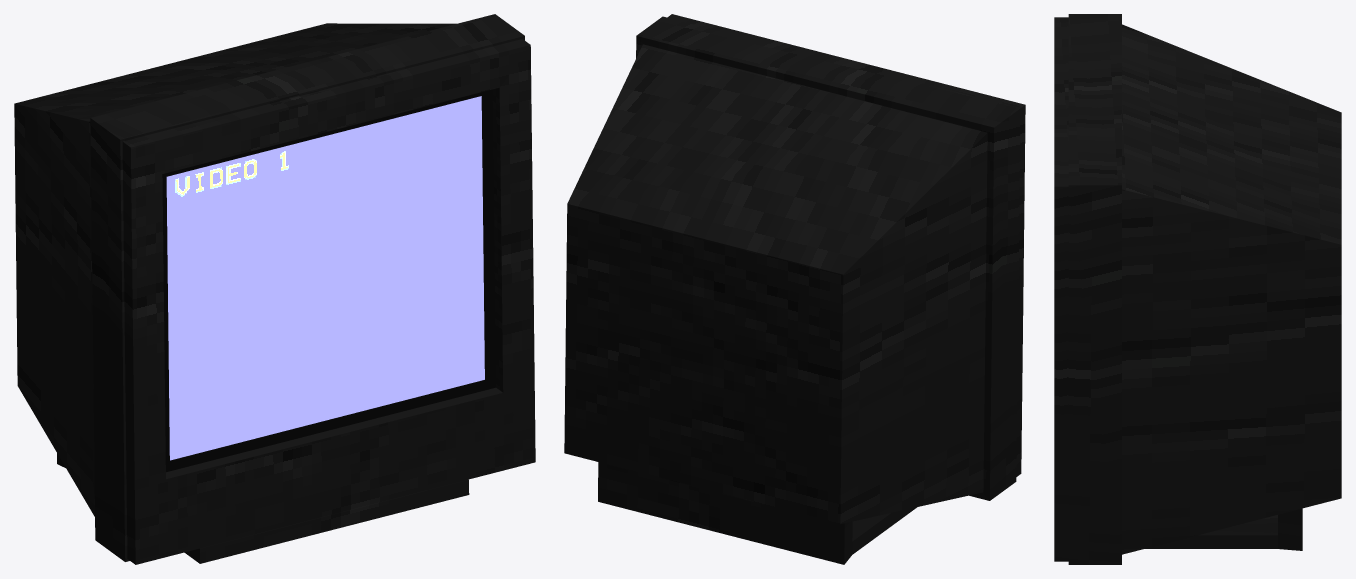
3 renders of one model, left to right at view 1: azimuth 30°, elevation 25°; view 2: azimuth 150°, elevation 25°; view 3: azimuth 270°, elevation 25°, orthographic. The views are drawn at different scales.
Parts seen in each view (by area): view 1: TV; view 2: TV; view 3: TV.
Part boxes in pixels (bbox=[...]): TV: bbox=[14, 14, 535, 564]; TV: bbox=[564, 14, 1025, 564]; TV: bbox=[1054, 14, 1341, 564].
Bounding box in the file's own units: 3.13 × 3.23 × 2.14.
Materials: 3 (2 with a texture image).
